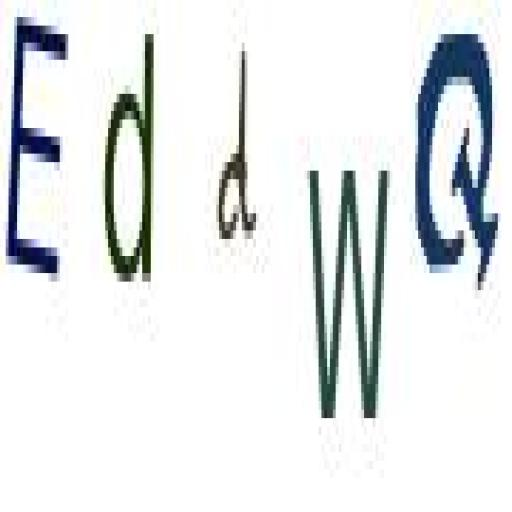E: (6, 4, 71, 301)
Q: (413, 16, 506, 304)
W: (306, 156, 391, 435)
d: (99, 18, 159, 304), (216, 25, 260, 265)
